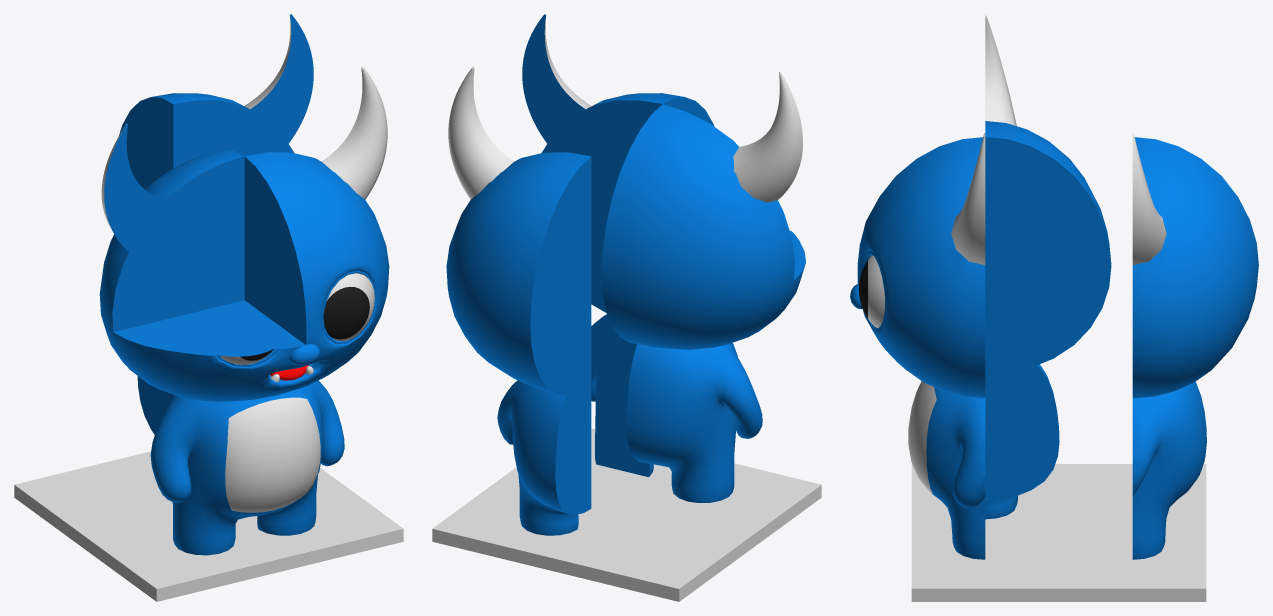
File: target_model_b.glb
3 views of the same model, side by side, from view 1: azimuth 30°, elevation 25°; view 2: azimuth 150°, elevation 25°; view 3: azimuth 270°, elevation 25° (orthographic). The views are drawn at different scales.
Parts seen in each view (by area): view 1: Roundcube.002; view 2: Roundcube.002; view 3: Roundcube.002.
Part boxes in pixels (<box>): Roundcube.002: <box>14,14,403,601</box>; Roundcube.002: <box>432,14,821,601</box>; Roundcube.002: <box>850,14,1258,601</box>.
Bounding box in the file's own units: 2.27 × 3.49 × 2.77.
